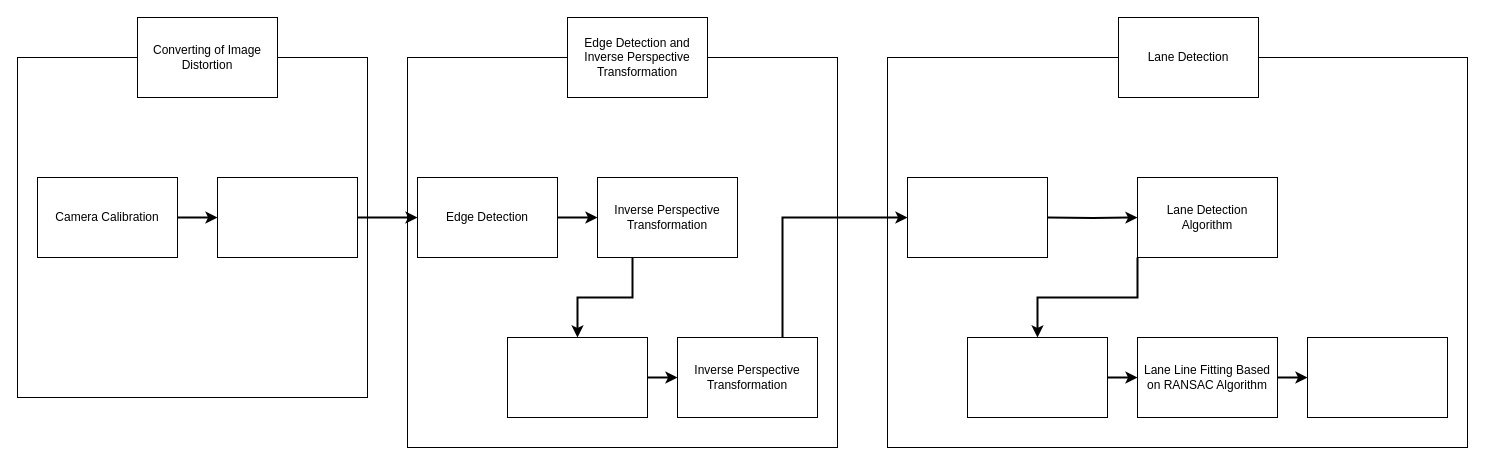
Image size: 1485x465. Some labels were removed from this diagram. The shapes that lost their labels are listed below. From the top down, each one's box as (x1, y1, x2, y2) in pixels, then its label:
(216, 176, 358, 258): Image Distortion Removal
(906, 176, 1048, 258): Mask Operation
(506, 336, 648, 418): ROI Extraction
(966, 336, 1108, 418): Third-Order B-Spline Curve Model
(1306, 336, 1448, 418): Lane Line Fitting Evaluation and Curvature Radius Calculation
